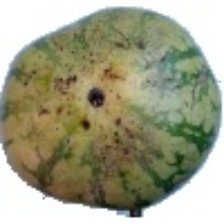watermelon: (3, 32, 188, 187)
